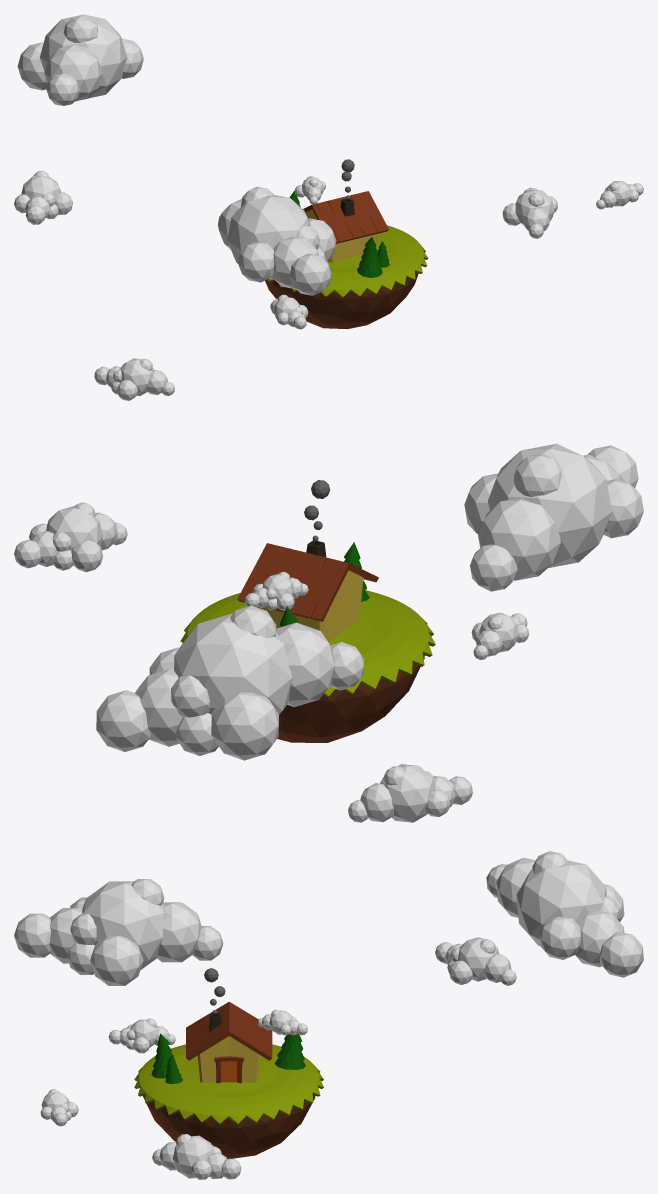
The model's file is House.fbx.
3 views of the same model, one above another, from view 1: azimuth 30°, elevation 25°; view 2: azimuth 150°, elevation 25°; view 3: azimuth 270°, elevation 25° (orthographic). The views are drawn at different scales.
Parts seen in each view (by area): view 1: cloud.001, cloud.006, ground, grass, house-door, cloud.005, cloud.004, cloud.002, cloud, spruce.002, cloud.003; view 2: cloud.006, cloud.001, grass, house-door, ground, cloud.004, cloud.005, cloud, cloud.002, cloud.003; view 3: cloud.001, cloud.006, grass, house-door, ground, cloud.005, cloud.004, cloud.002, cloud, cloud.003, spruce.001, spruce.002.
Boxes of the visible parts, x1,y1,x2,y2 form: cloud.001: (217, 186, 336, 295); cloud.006: (17, 14, 143, 105); ground: (265, 272, 418, 329); grass: (268, 225, 428, 297); house-door: (303, 191, 388, 262); cloud.005: (14, 170, 72, 224); cloud.004: (502, 187, 557, 238); cloud.002: (270, 294, 308, 329); cloud: (596, 181, 643, 209); spruce.002: (357, 237, 382, 277); cloud.003: (294, 176, 325, 204); cloud.006: (96, 605, 364, 760); cloud.001: (464, 443, 643, 591); grass: (180, 590, 435, 696); house-door: (237, 543, 378, 642); ground: (277, 655, 424, 742); cloud.004: (14, 502, 127, 572); cloud.005: (348, 764, 472, 822); cloud: (94, 358, 174, 400); cloud.002: (471, 612, 529, 659); cloud.003: (244, 571, 308, 610); cloud.001: (14, 879, 223, 985); cloud.006: (486, 851, 643, 977); grass: (134, 1044, 323, 1124); house-door: (186, 1001, 272, 1083); ground: (143, 1095, 315, 1158); cloud.005: (435, 937, 516, 985); cloud.004: (152, 1134, 241, 1179); cloud.002: (108, 1018, 175, 1053); cloud: (40, 1089, 78, 1126); cloud.003: (257, 1009, 307, 1035); spruce.001: (274, 1034, 305, 1069); spruce.002: (151, 1033, 179, 1078).
Bounding box in the file's own units: 1939 × 940 × 2236.
